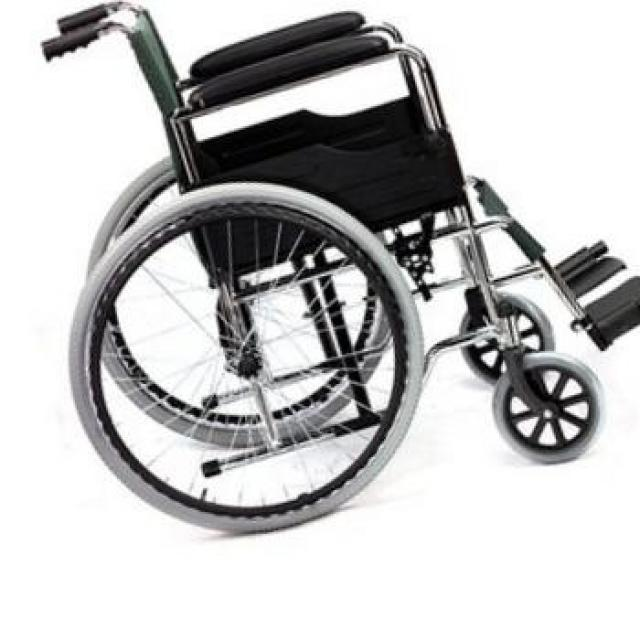wheelchair: (33, 0, 640, 550)
